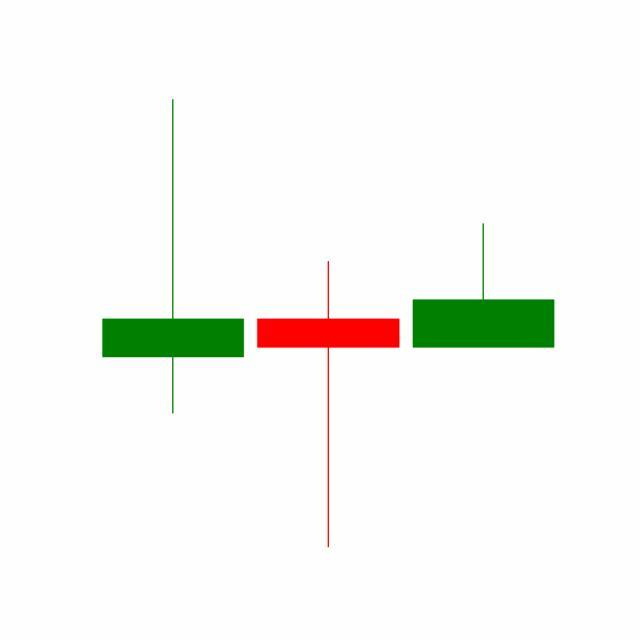Spinning Top: (250, 258, 407, 551)
